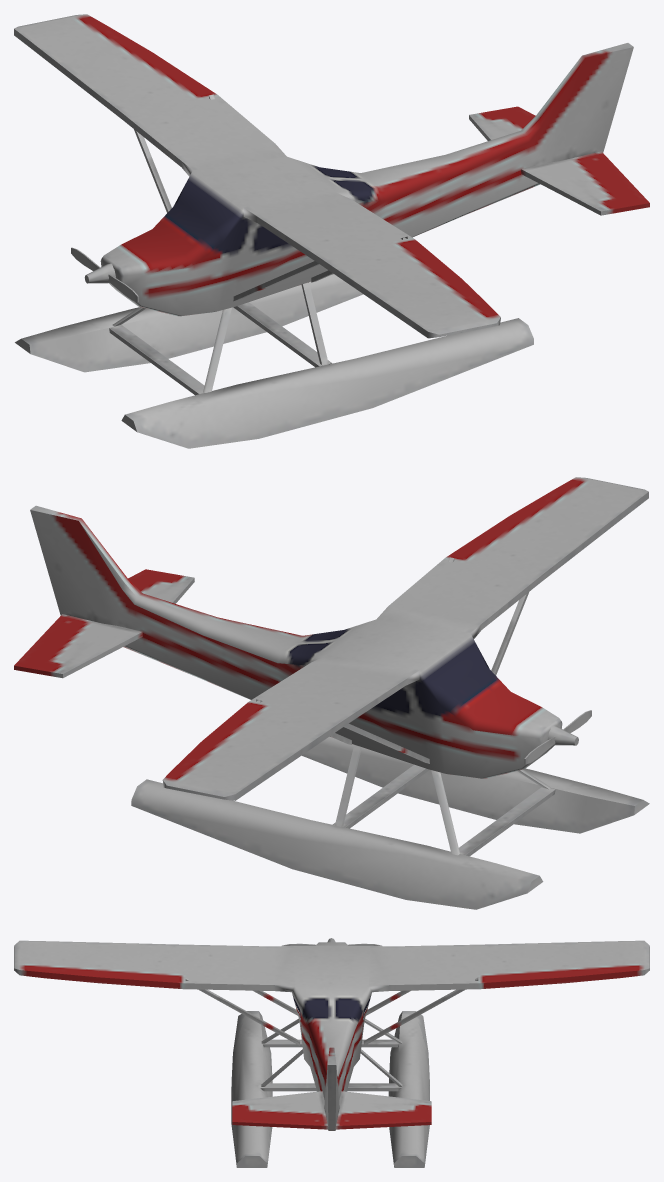
File: MB_Hydroplane.fbx
3 views of the same model, one above another, from view 1: azimuth 30°, elevation 25°; view 2: azimuth 150°, elevation 25°; view 3: azimuth 270°, elevation 25° (orthographic). The views are drawn at different scales.
Parts seen in each view (by area): view 1: MB_Hydroplane; view 2: MB_Hydroplane; view 3: MB_Hydroplane.
Part boxes in pixels (<box>): MB_Hydroplane: <box>14,14,649,448</box>; MB_Hydroplane: <box>14,477,649,909</box>; MB_Hydroplane: <box>14,938,649,1167</box>.
Size of the model in its own units: 1253 by 513 by 1645.
